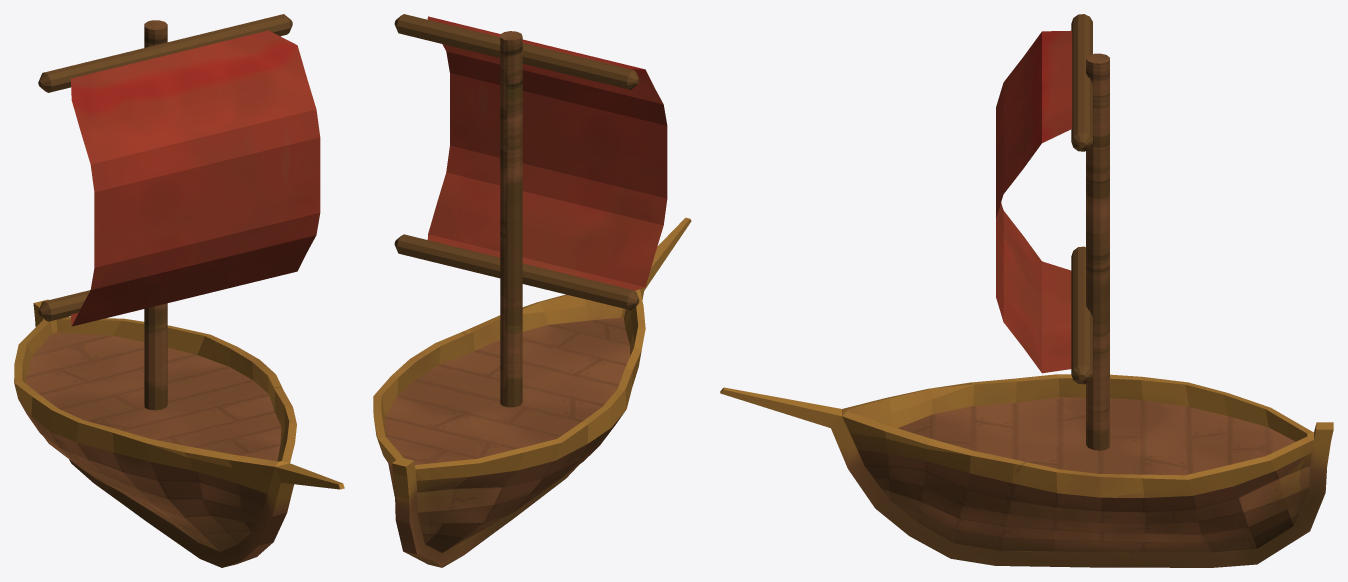
Rendered from boaty.fbx.
3 renders of one model, left to right at view 1: azimuth 30°, elevation 25°; view 2: azimuth 150°, elevation 25°; view 3: azimuth 270°, elevation 25°, orthographic. The views are drawn at different scales.
Visible parts, largest first — view 1: sail, boat, floor, mast; view 2: sail, boat, floor, mast; view 3: boat, floor, sail, mast.
Boxes of the visible parts, bbox=[...] form: sail: bbox=[71, 30, 320, 326]; boat: bbox=[14, 299, 344, 567]; floor: bbox=[25, 332, 281, 461]; mast: bbox=[38, 14, 292, 410]; sail: bbox=[427, 16, 667, 290]; boat: bbox=[373, 217, 691, 567]; floor: bbox=[384, 317, 630, 464]; mast: bbox=[394, 14, 639, 407]; boat: bbox=[720, 374, 1333, 567]; floor: bbox=[898, 397, 1295, 475]; sail: bbox=[996, 30, 1072, 373]; mast: bbox=[1071, 14, 1109, 450].
Bounding box in the file's own units: 3415 × 6461 × 7107.
Materials: 1 (1 with a texture image).
